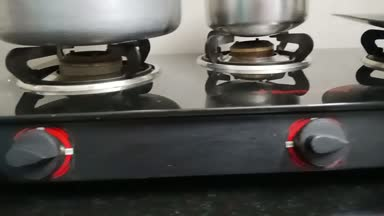flame_gas_off: (3, 39, 153, 189), (203, 26, 357, 172)
